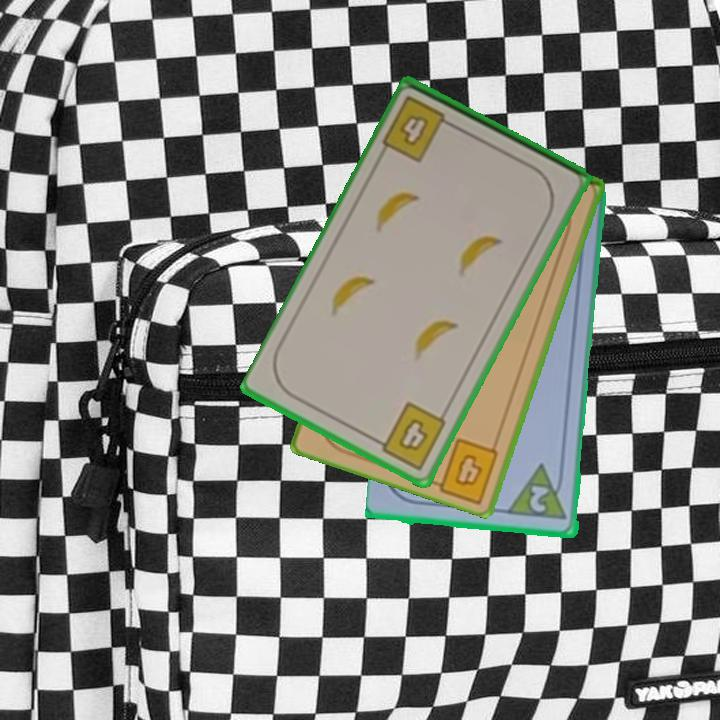2p: (506, 462, 570, 523)
4b: (370, 398, 450, 473), (379, 92, 460, 166), (451, 450, 486, 490)
